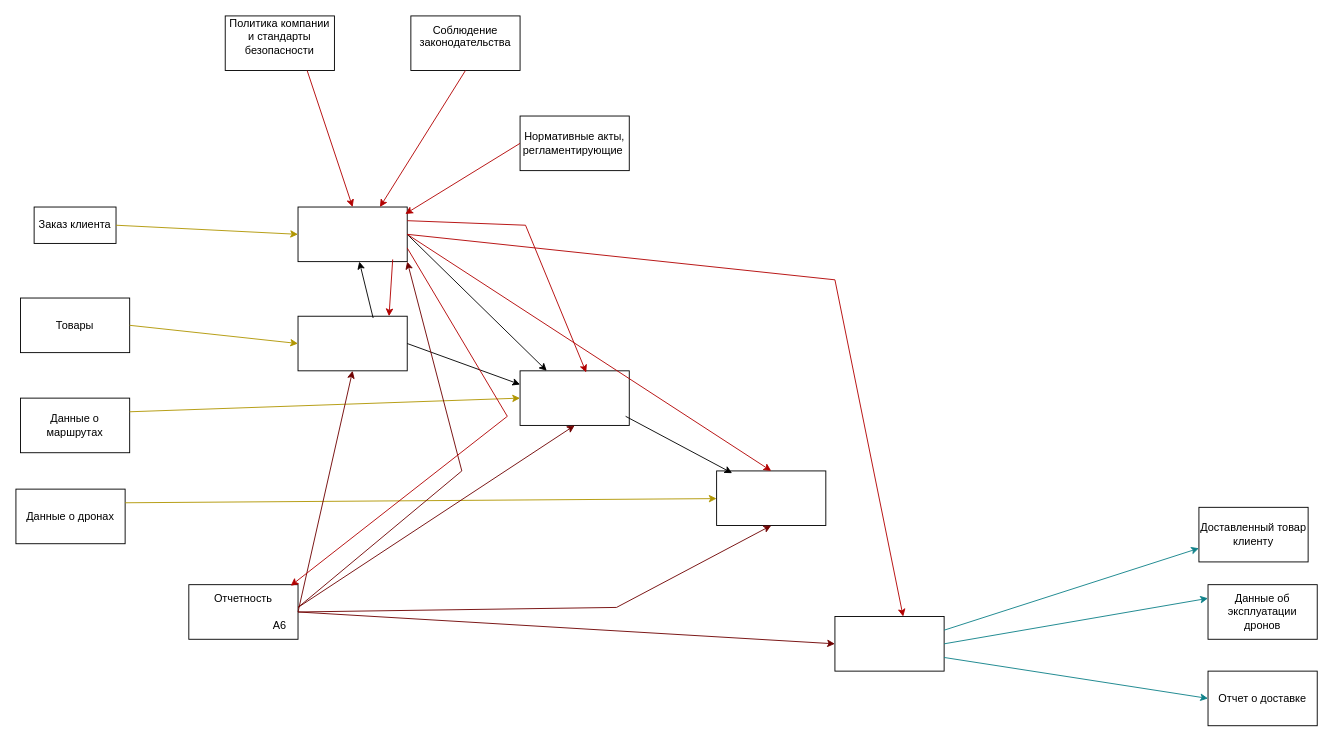
Some shapes in this 1333 by 742 pixel diagram are drawn without their labels. Here are the shapes that lost their labels. From the top down, the centre of each, then its label:
the point at 352,234: Обработка заказов клиентов А1
the point at 352,343: Управление товарами А2
the point at 574,397: Планирование маршрута А3
the point at 771,498: Управление данными с дронов А4
the point at 889,643: Доставка А5
